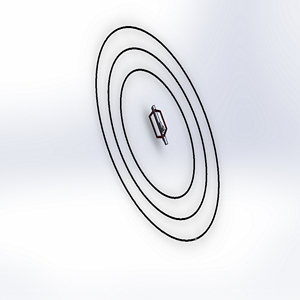circle: (84, 20, 227, 249)
submarine: (141, 99, 176, 153)
